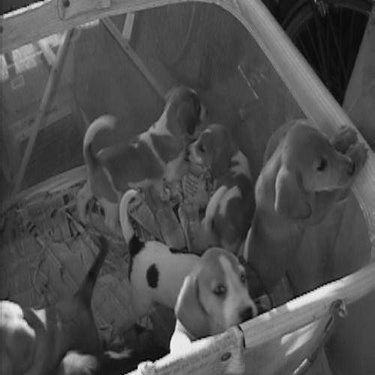dog: (111, 186, 267, 361), (243, 111, 369, 307), (77, 82, 207, 233), (3, 226, 114, 372), (178, 117, 255, 259), (52, 307, 164, 370)
